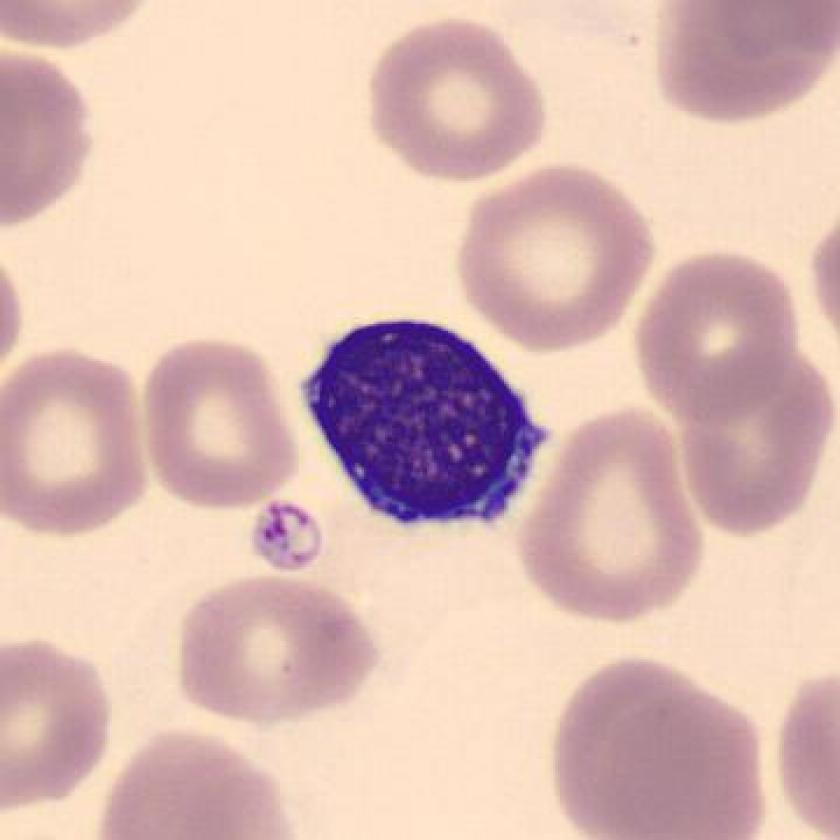lymphocyte: (281, 300, 570, 559)
